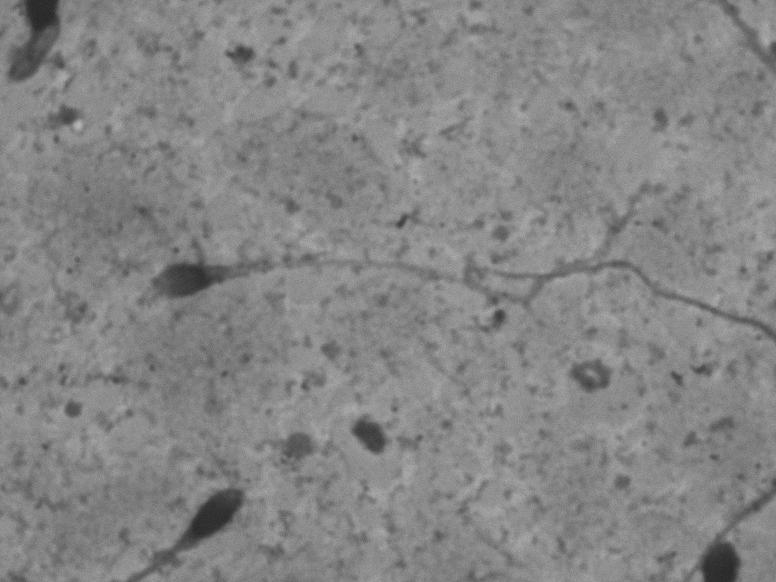Abnormal: (109, 173, 648, 348)
